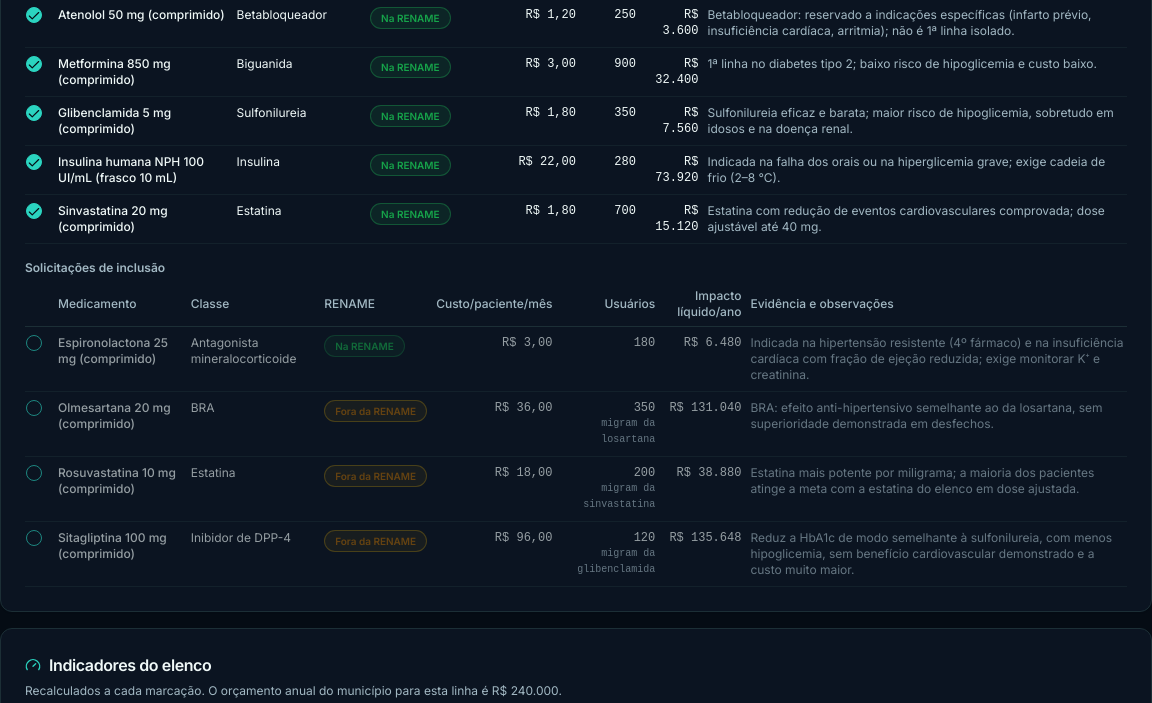
bancadas do simulador de Cadeia de Suprimentos (renderização e interação) › Seleção: marcar uma solicitação recalcula o custo e o estado enviado ao Modo Desafio
(page scrolled)
Click the checkbox named "Incluir Espironolactona 25 mg (comprimido)". click: (34, 343)
box: [26,335,42,351]
(page scrolled)
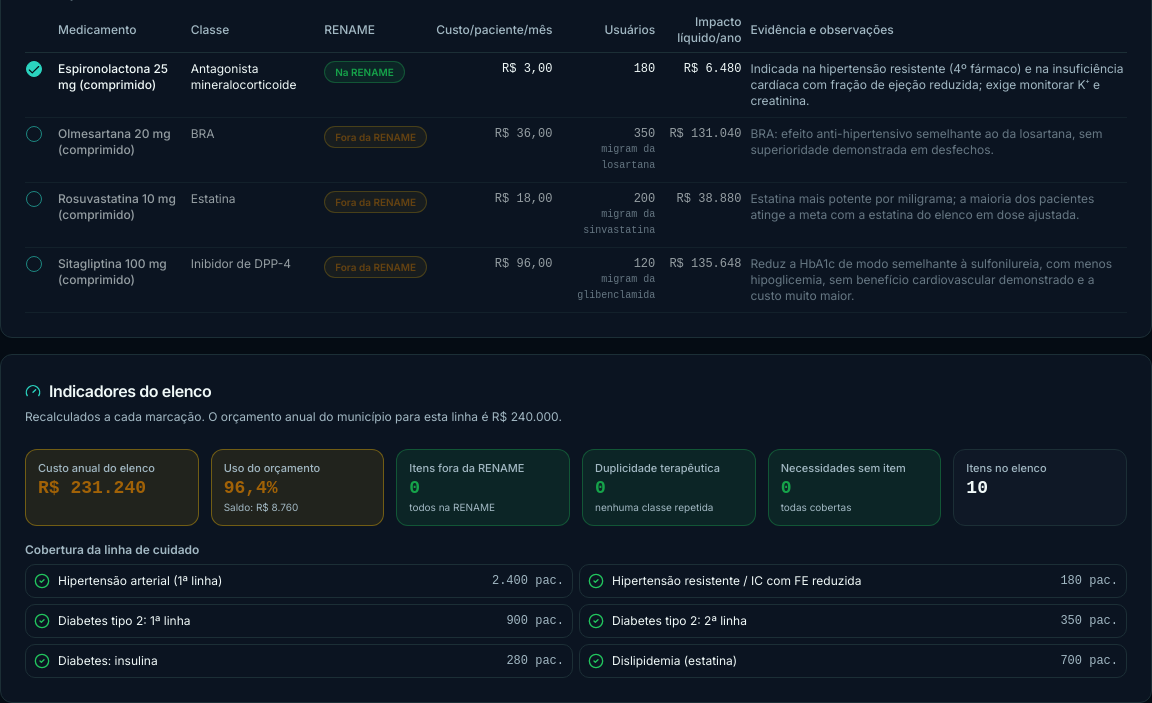
Result: the text "R$ 231.240" is shown at [38,478,146,498]
